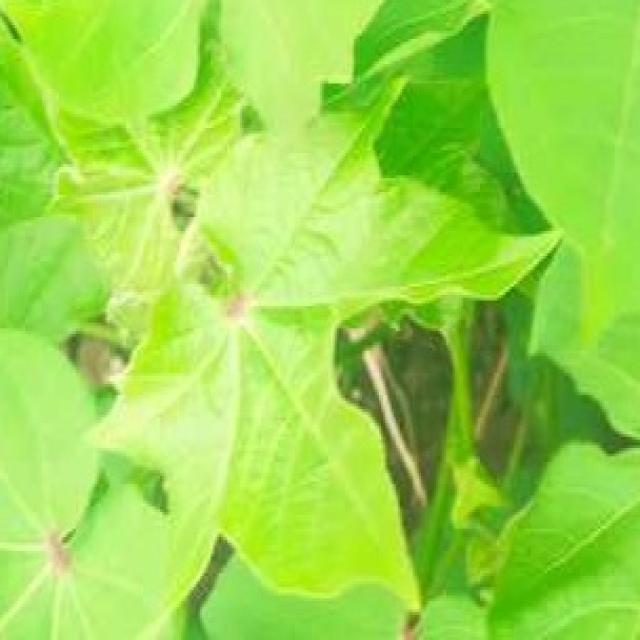Healthy Leaf: (26, 58, 526, 640)
